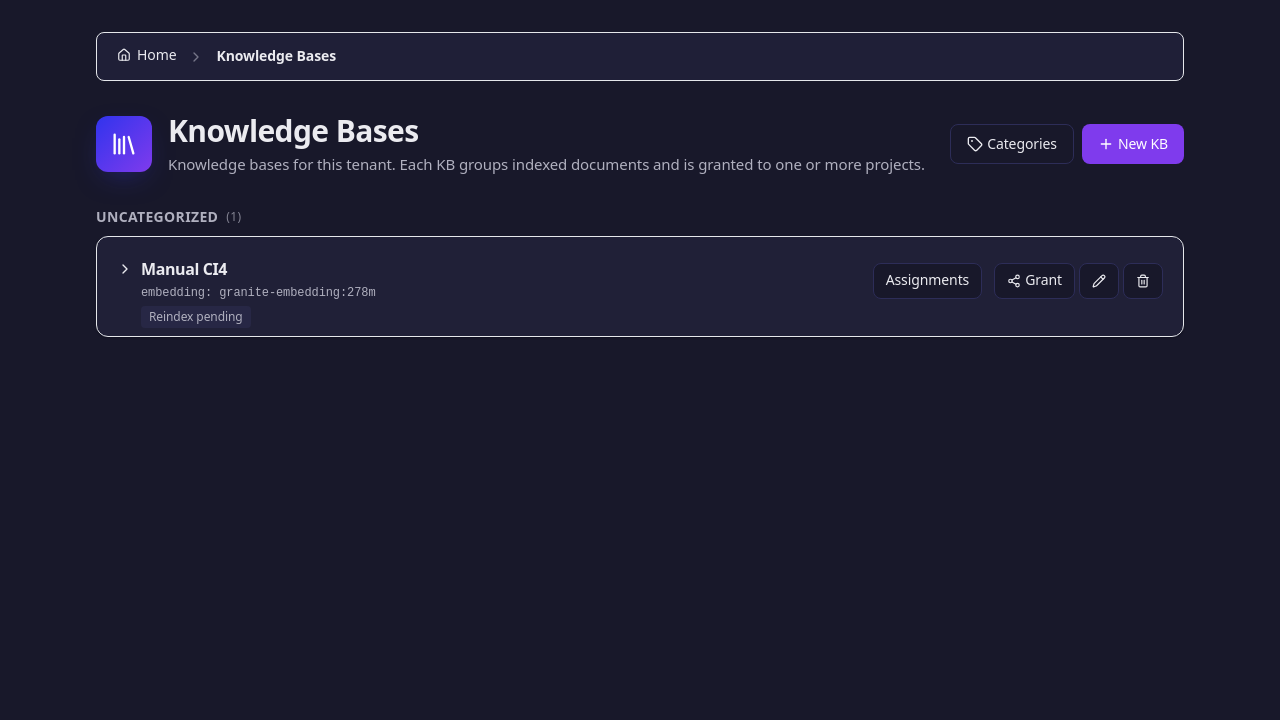
knowledge-bases en inglés › traduce el aviso de reindexado cuando la KB quedó con otro modelo
The width and height of the screenshot is (1280, 720).
Click the button with test id "kb-edit-kb-1" at (1099, 281), box top-left (1079, 263), bottom-right (1119, 299)
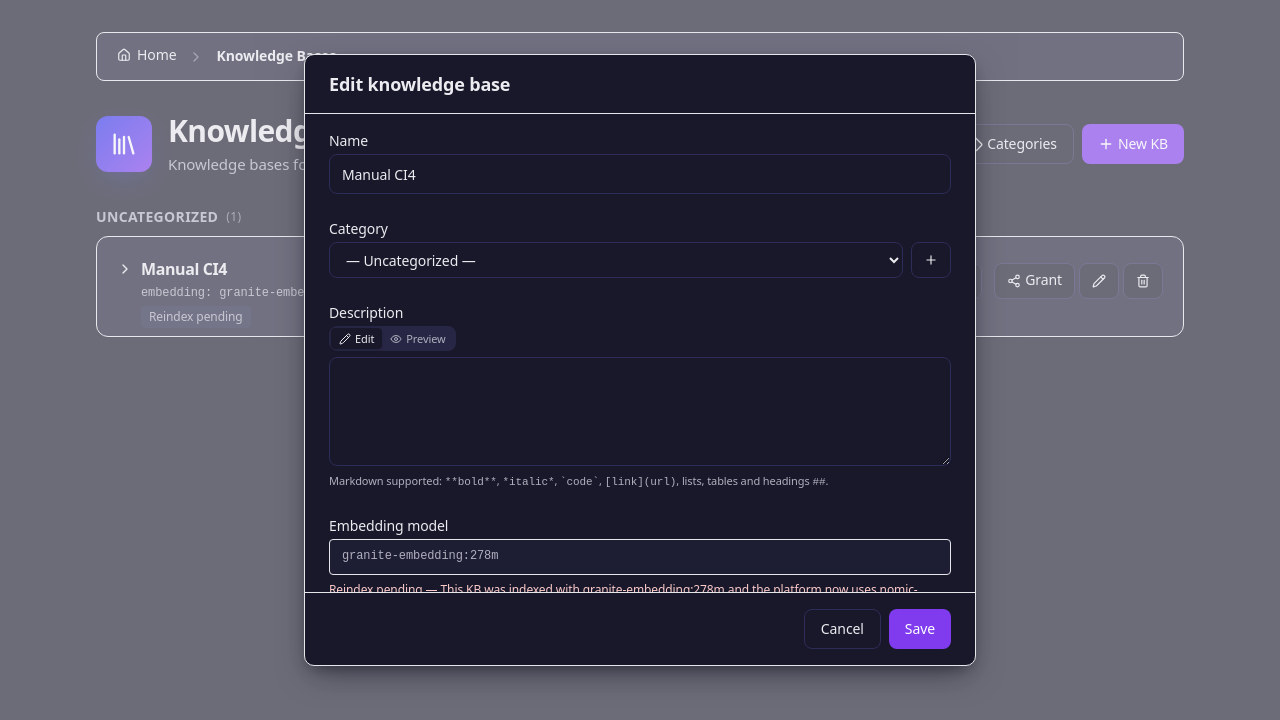
Check: the field with test id "kb-edit-name" is shown, box top-left (329, 154), bottom-right (951, 194)
Check: the text with test id "kb-edit-embedding-stale" shows "Reindex pending", box top-left (329, 581), bottom-right (422, 592)
